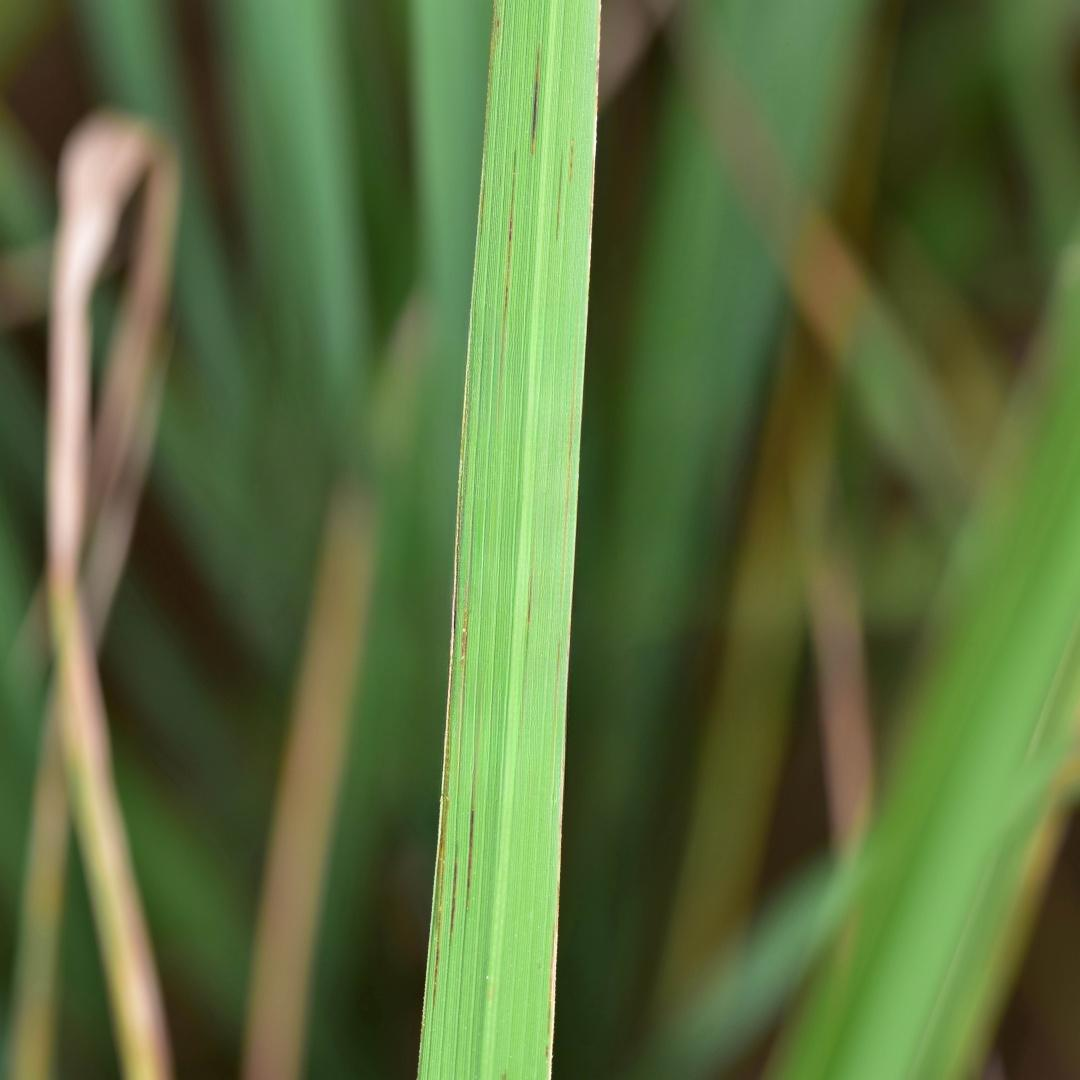BLS: (434, 370, 468, 1017), (562, 364, 575, 571), (504, 150, 516, 315), (466, 746, 475, 913), (461, 566, 469, 734), (531, 44, 541, 155), (450, 812, 457, 950), (556, 153, 562, 239), (481, 173, 485, 235), (570, 138, 574, 182)
